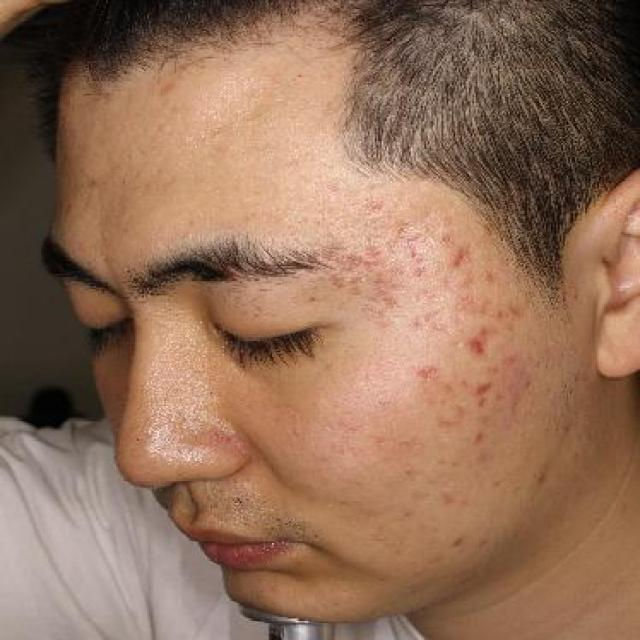Acne: (446, 245, 478, 269), (466, 377, 499, 400), (463, 332, 492, 358), (407, 363, 442, 383), (530, 469, 552, 488)
